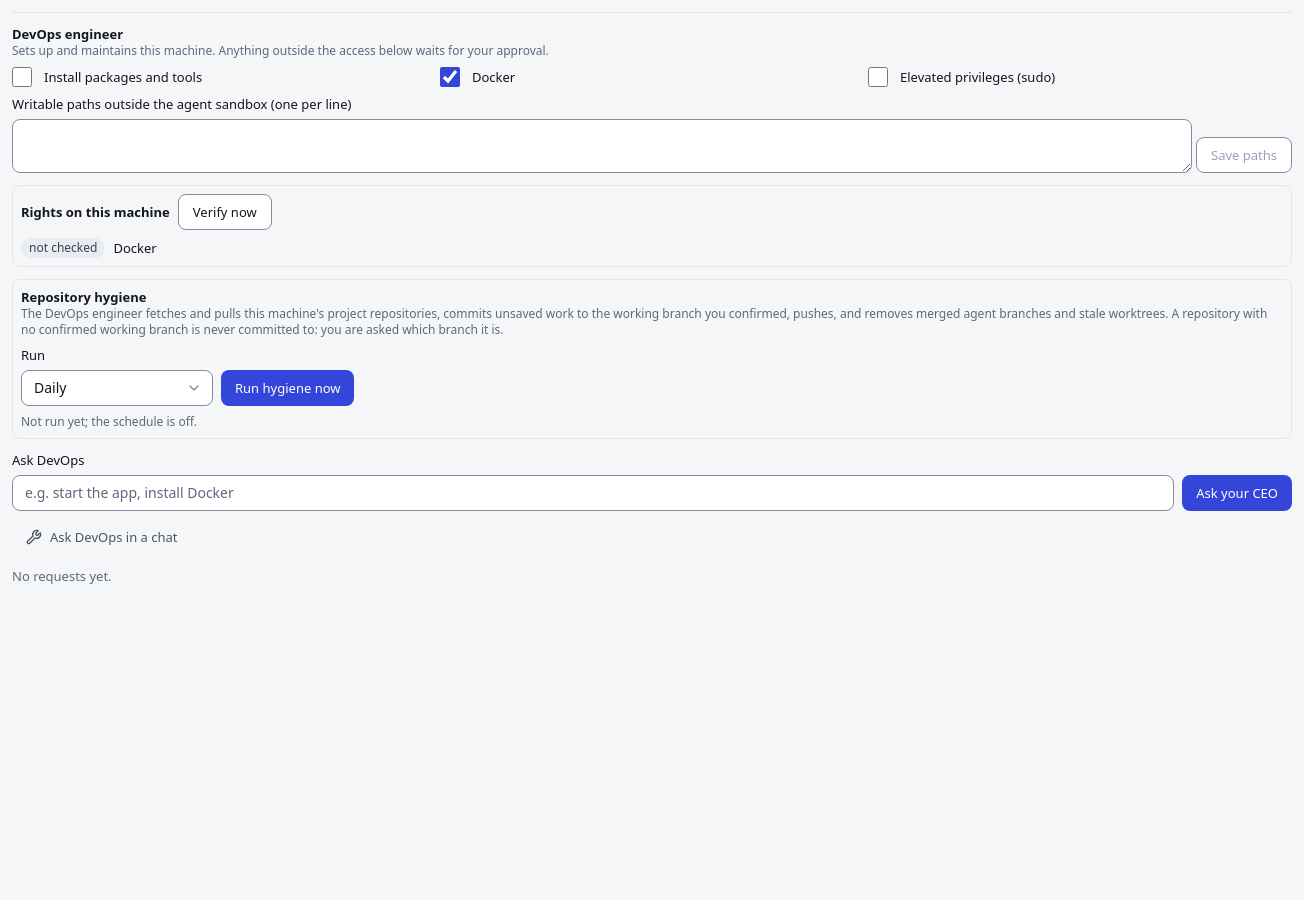
Scenario: Verify now › shows the 409 message when the server refuses an outdated runner
Click the button "Verify now": click(225, 212) [178, 194, 272, 230]
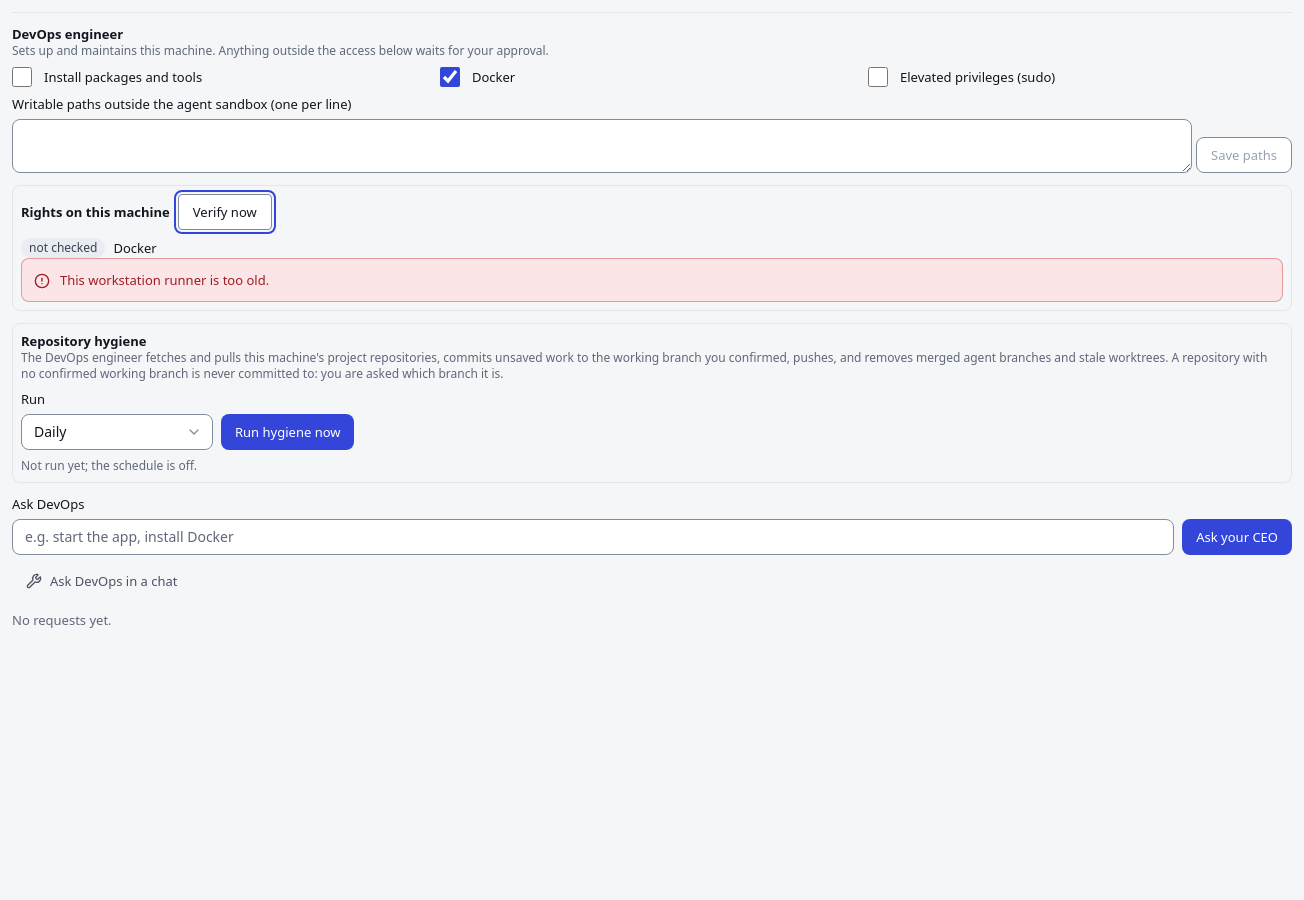
Expected: the text "This workstation runner is too old." is shown, [60, 271, 269, 289]
